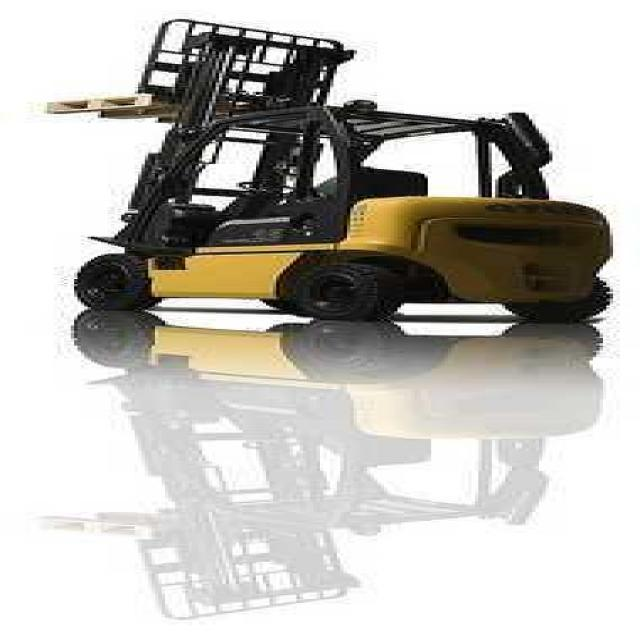Chariot elevateur: (51, 15, 616, 328)
